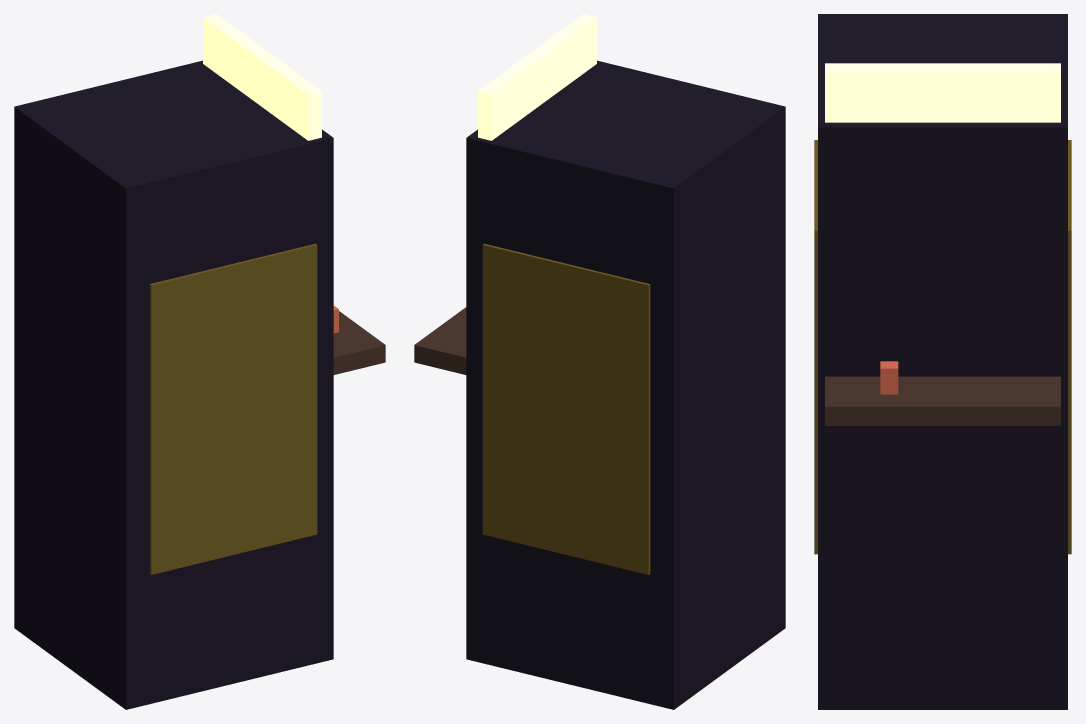
Rendered from wall_2.glb.
The picture shows the model from 3 angles, left to right: view 1: azimuth 30°, elevation 25°; view 2: azimuth 150°, elevation 25°; view 3: azimuth 270°, elevation 25°; orthographic projection. The views are drawn at different scales.
Visible parts, largest first — view 1: Box1, Box2, Box4, Box5; view 2: Box1, Box2, Box4, Box5; view 3: Box1, Box4, Box5, Box2, Box6.
Boxes of the visible parts, box(x1,y1,x2,y2) form: Box1: box(14, 60, 333, 709); Box2: box(149, 243, 317, 574); Box4: box(203, 14, 321, 140); Box5: box(333, 311, 385, 374); Box1: box(466, 60, 785, 709); Box2: box(482, 243, 650, 574); Box4: box(478, 14, 596, 140); Box5: box(414, 307, 466, 374); Box1: box(818, 14, 1067, 709); Box4: box(825, 63, 1060, 122); Box5: box(825, 376, 1060, 425); Box2: box(814, 140, 1071, 554); Box6: box(880, 361, 898, 394).
Bounding box in the file's own units: 0.95 × 1.96 × 0.72.
